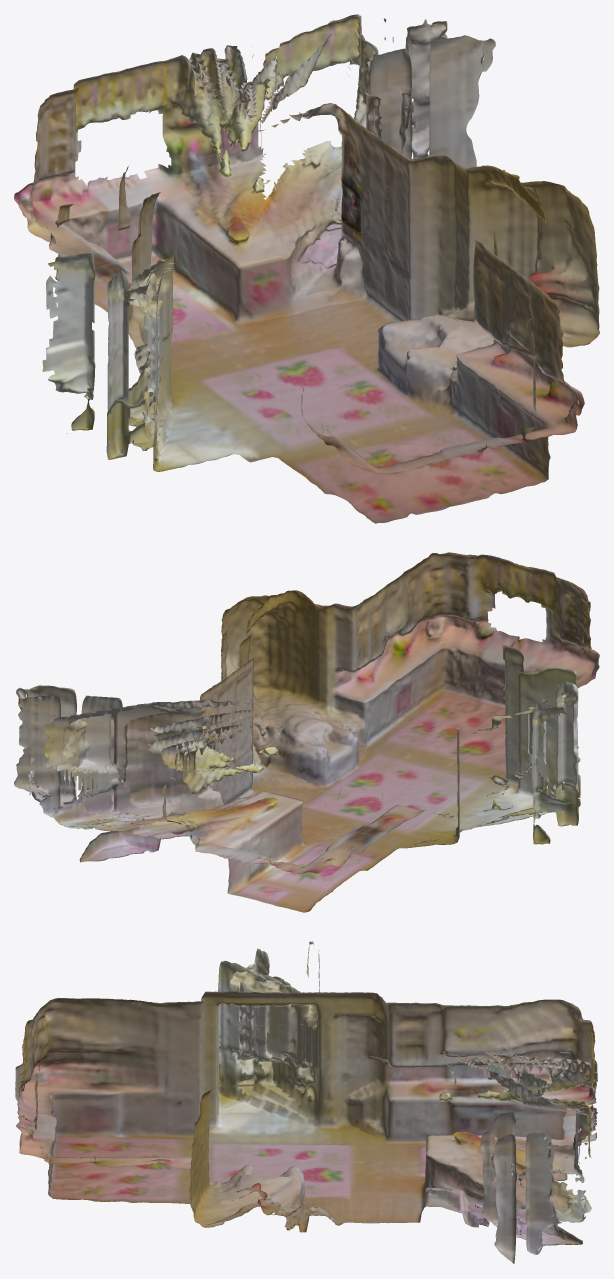
File: berry-dream-kitchen-1-1_collider.glb
The picture shows the model from 3 angles, top to bottom: view 1: azimuth 30°, elevation 25°; view 2: azimuth 150°, elevation 25°; view 3: azimuth 270°, elevation 25°; orthographic projection. The views are drawn at different scales.
Parts seen in each view (by area): view 1: world; view 2: world; view 3: world.
Part boxes in pixels (bbox=[...]): world: bbox=[14, 14, 599, 523]; world: bbox=[14, 552, 599, 912]; world: bbox=[15, 941, 597, 1263].
Bounding box in the file's own units: 9.05 × 2.93 × 10.28.
